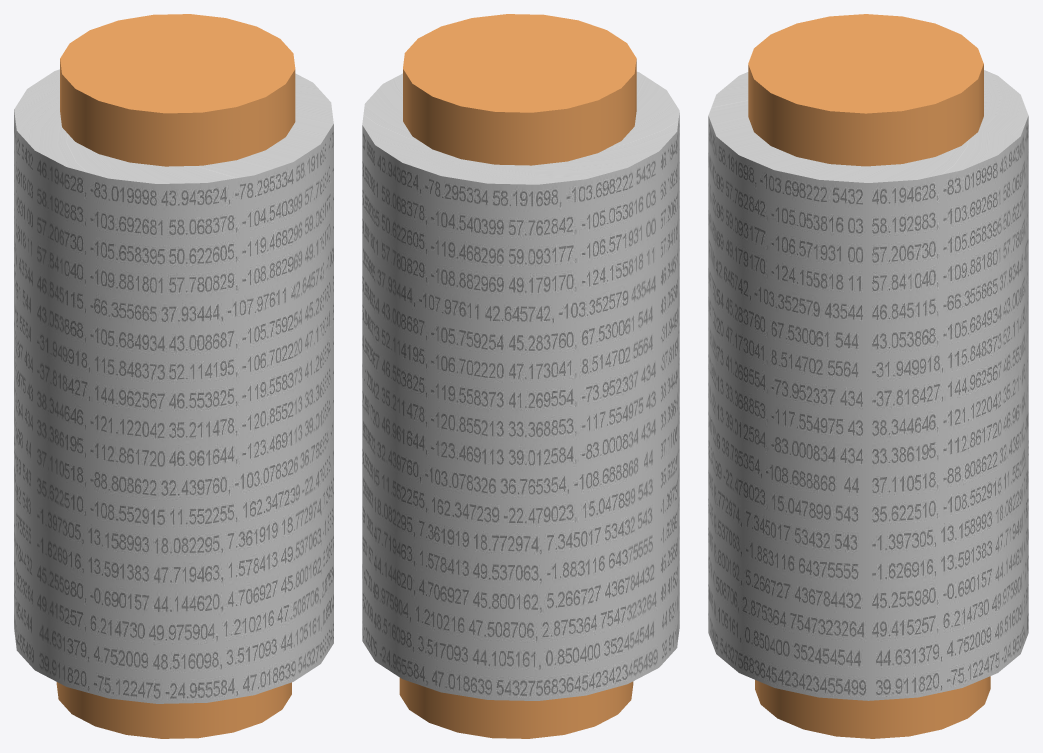
Rendered from final_cask_v3.gltf.
The picture shows the model from 3 angles, left to right: view 1: azimuth 30°, elevation 25°; view 2: azimuth 150°, elevation 25°; view 3: azimuth 270°, elevation 25°; orthographic projection.
Visible parts, largest first — view 1: group3; view 2: group3; view 3: group3.
Boxes of the visible parts, box(x1,y1,x2,y2) form: group3: box(14, 14, 333, 738); group3: box(362, 14, 679, 738); group3: box(708, 14, 1028, 738).
Size of the model in its own units: 2 by 4.31 by 2.
2 materials, 1 textured.
